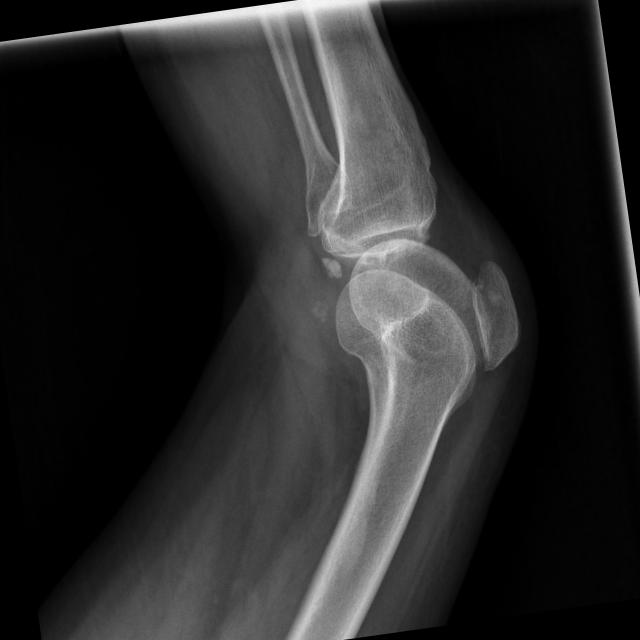Knee: (313, 173, 525, 396)
